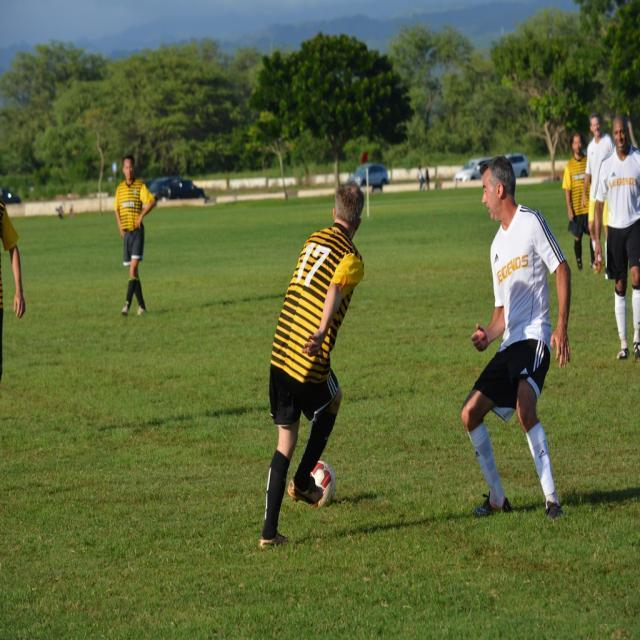football: (290, 453, 339, 510)
